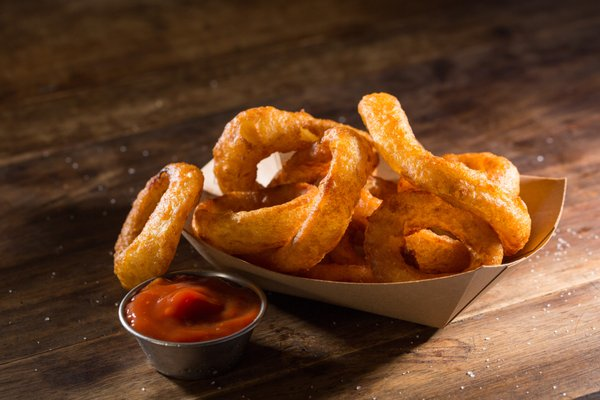sushi: (118, 271, 266, 381)
